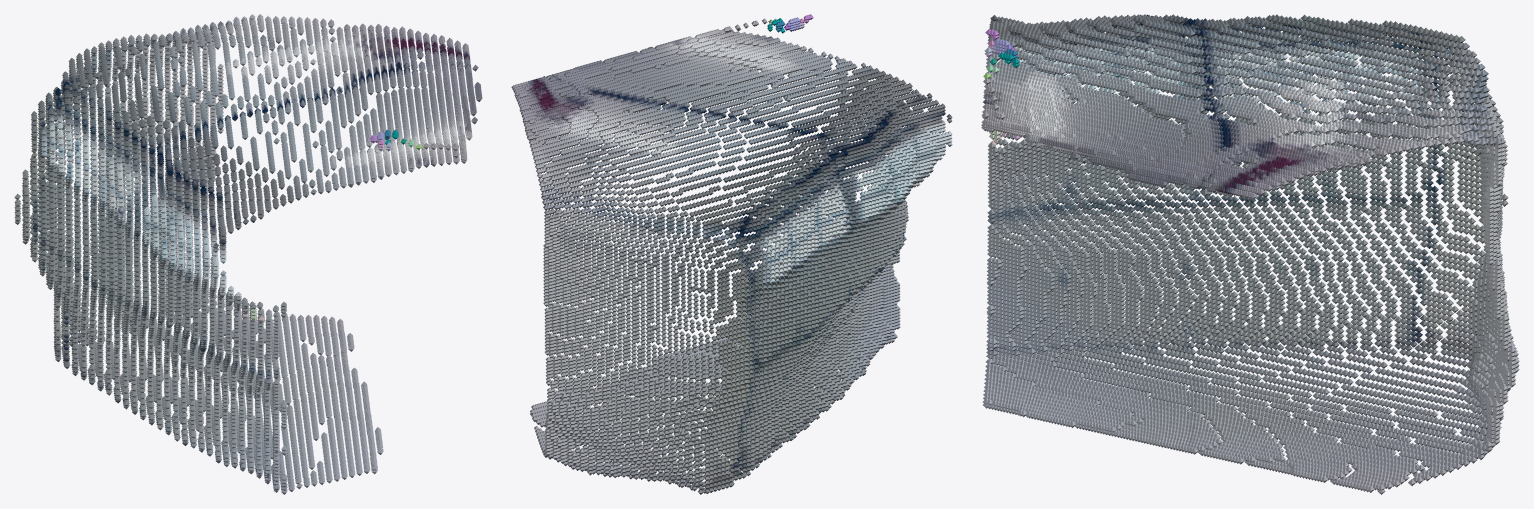
The model's file is combine_pred.glb.
3 views of the same model, side by side, from view 1: azimuth 30°, elevation 25°; view 2: azimuth 150°, elevation 25°; view 3: azimuth 270°, elevation 25° (orthographic). The views are drawn at different scales.
Visible parts, largest first — view 1: world; view 2: world; view 3: world.
Boxes of the visible parts, <box> form: world: <box>14,14,482,494</box>; world: <box>511,14,952,494</box>; world: <box>981,14,1519,494</box>.
Size of the model in its own units: 3.42 by 3.1 by 3.82.
